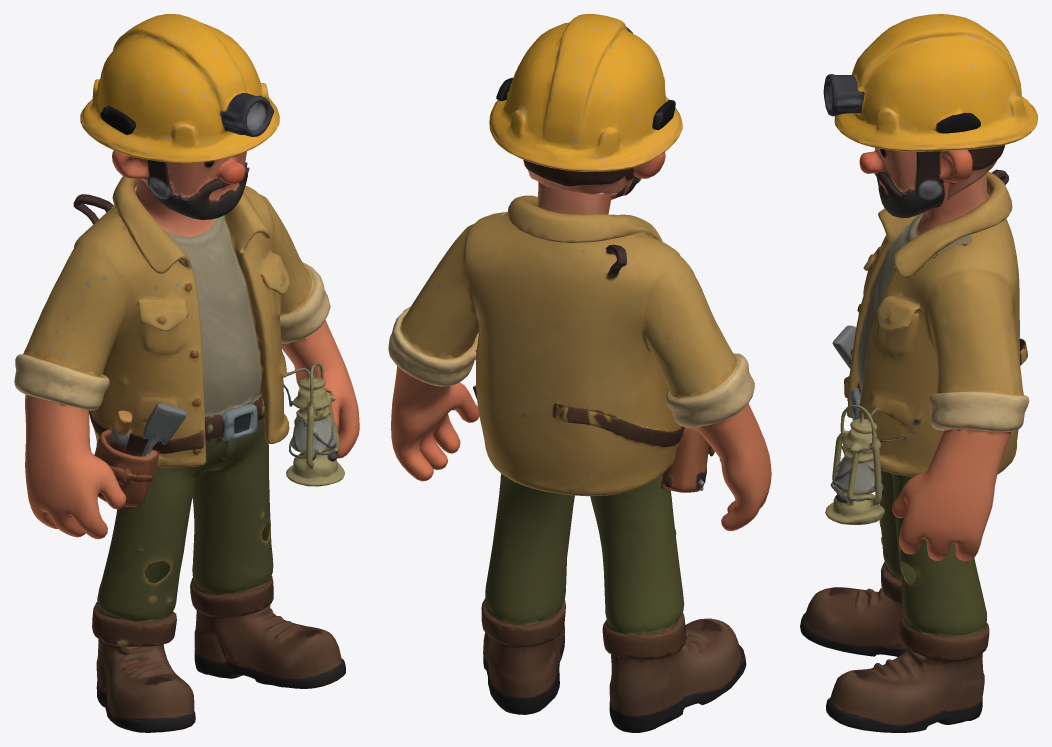
Rendered from taras.glb.
The picture shows the model from 3 angles, left to right: view 1: azimuth 30°, elevation 25°; view 2: azimuth 150°, elevation 25°; view 3: azimuth 270°, elevation 25°; orthographic projection. The views are drawn at different scales.
Size of the model in its own units: 0.4625 by 0.8841 by 0.2855.
Materials: 1 (1 with a texture image).
